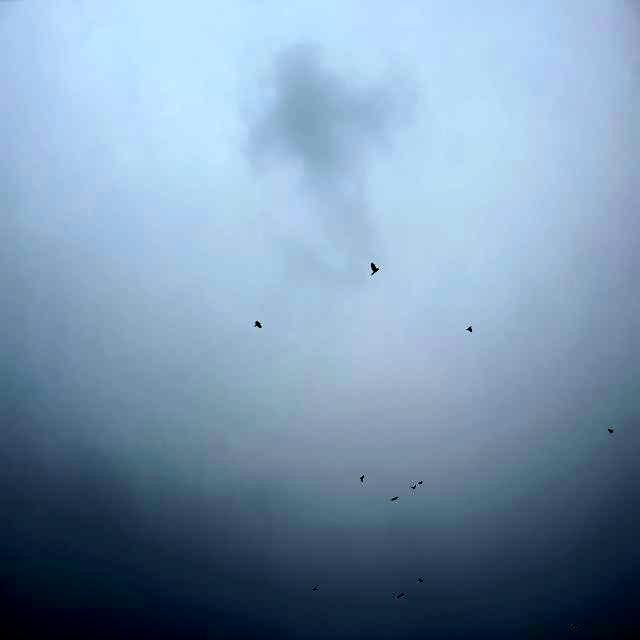bird: (366, 254, 384, 284), (309, 575, 331, 599), (412, 568, 433, 592), (409, 474, 431, 495), (352, 466, 372, 489), (386, 488, 406, 508), (249, 318, 265, 342), (392, 588, 410, 606), (464, 325, 479, 343), (604, 425, 616, 441)
